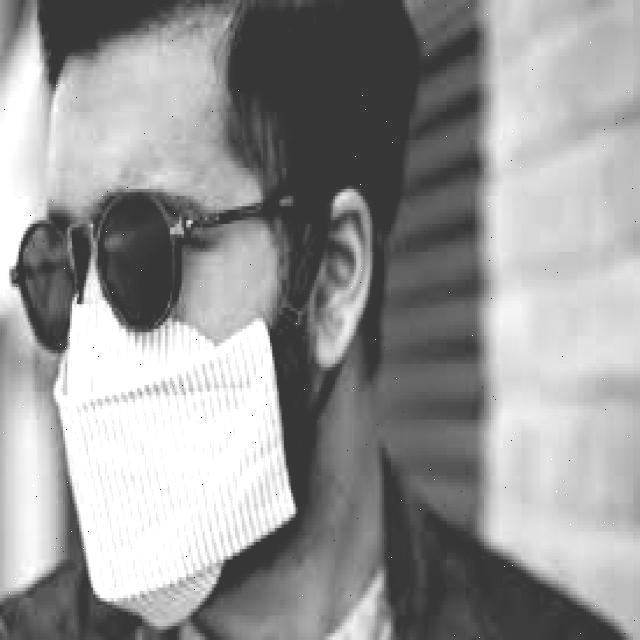fake: (18, 283, 312, 640), (7, 182, 366, 356)
